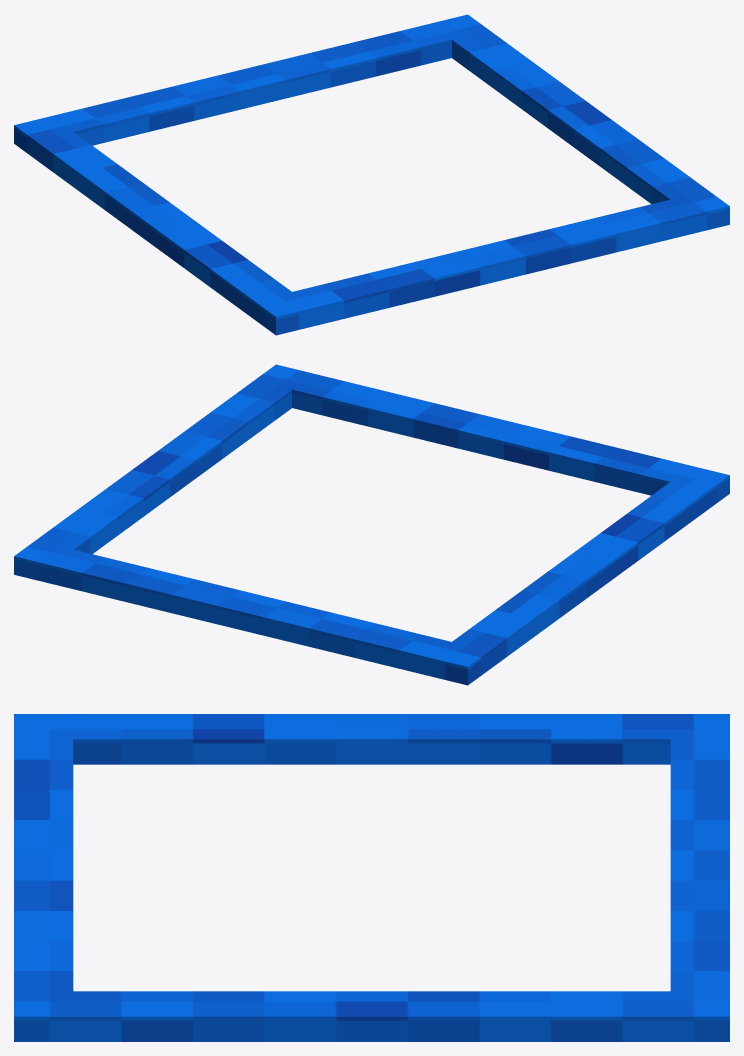
The model's file is trappreviewFloor.fbx.
3 renders of one model, top to bottom at view 1: azimuth 30°, elevation 25°; view 2: azimuth 150°, elevation 25°; view 3: azimuth 270°, elevation 25°, orthographic. The views are drawn at different scales.
Parts seen in each view (by area): view 1: previewFloor; view 2: previewFloor; view 3: previewFloor.
Boxes of the visible parts, x1,y1,x2,y2 form: previewFloor: (14, 14, 729, 335); previewFloor: (14, 364, 729, 685); previewFloor: (14, 714, 729, 1041).
Size of the model in its own units: 200 by 7.78 by 200.
Materials: 1 (1 with a texture image).
